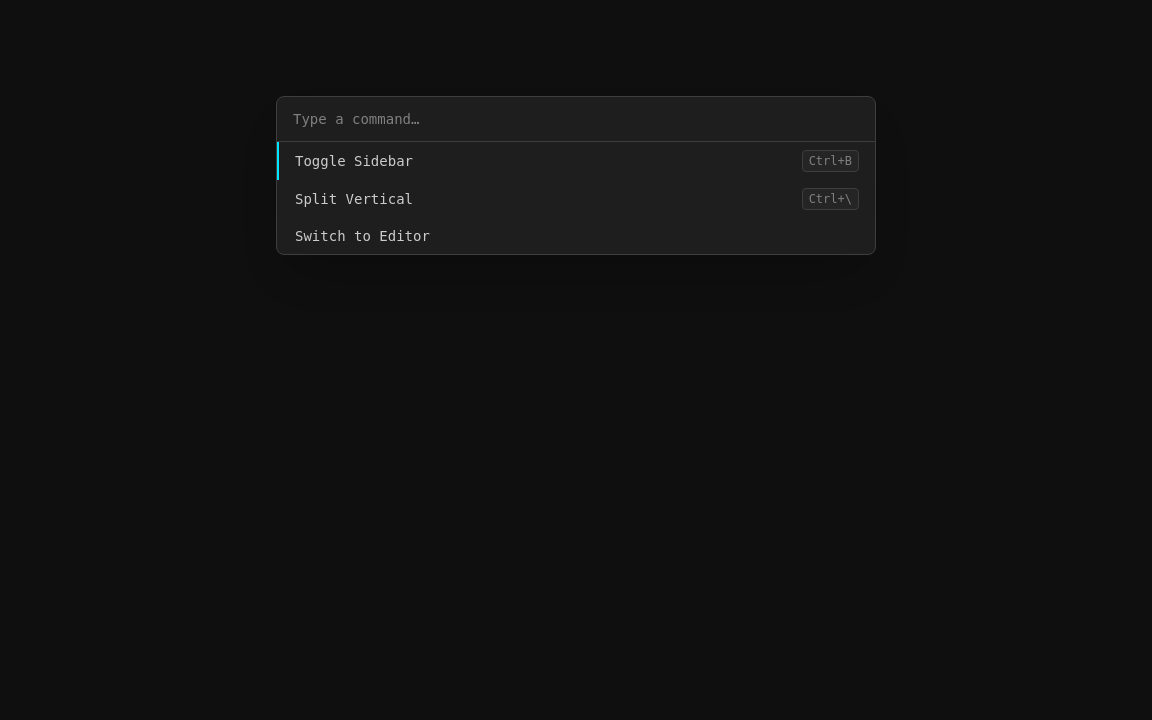
Test case: CommandPalette — command mode › shows empty message when nothing matches
This screenshot has width=1152, height=720.
Step 1. Type "zzznomatch" into the field with test id "palette-input" → coordinates (576, 120), box top-left (277, 97), bottom-right (875, 142)
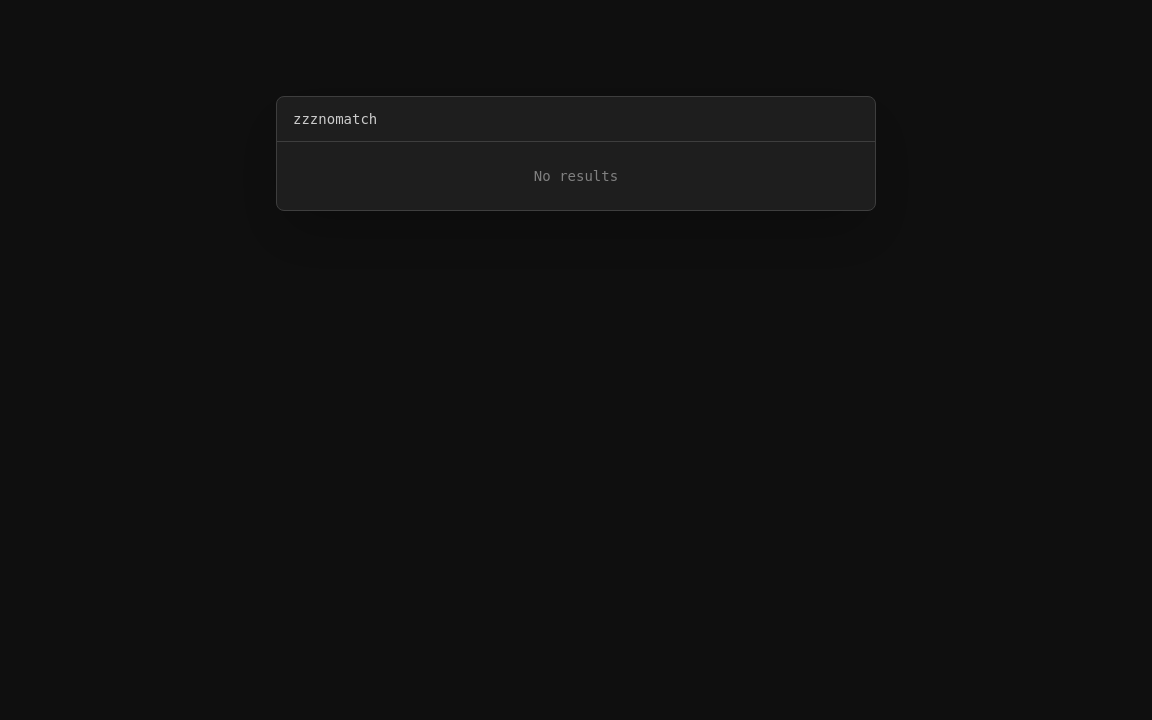
Expected: the text "No results" is shown, top-left (534, 168), bottom-right (618, 184)
